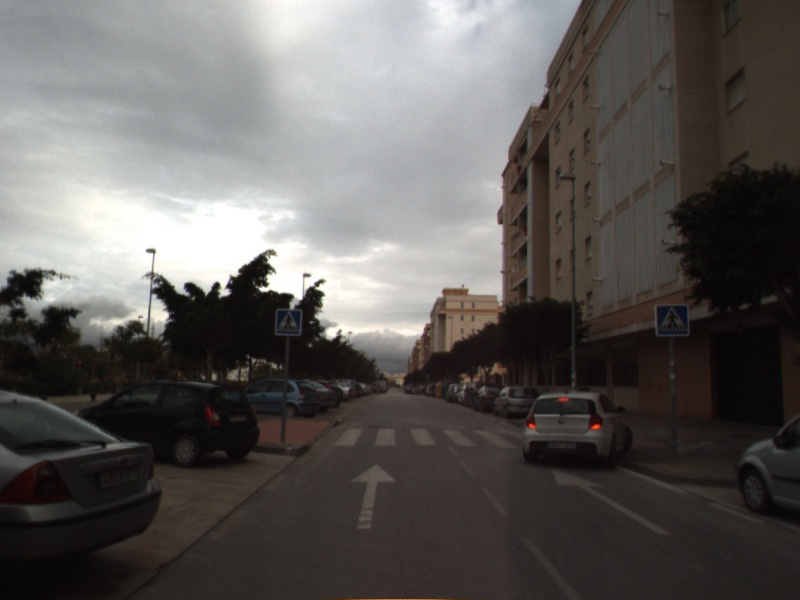STRAIGHT: (549, 466, 675, 537), (348, 462, 400, 531)
